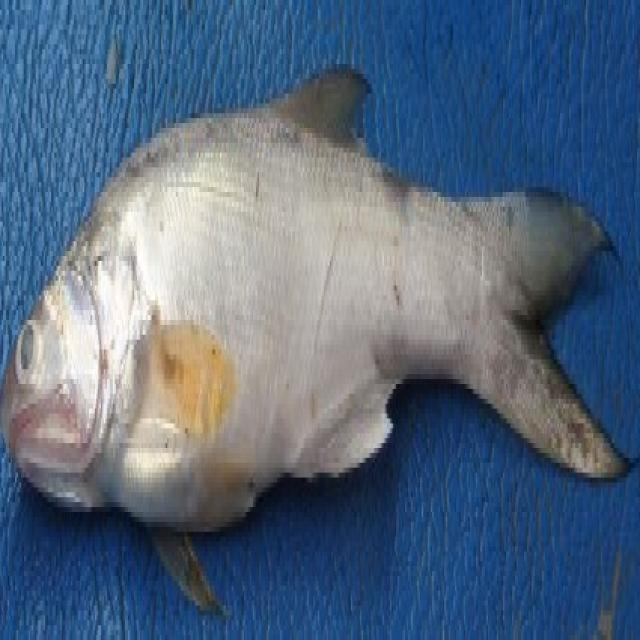Fourfinger-Threadfin: (1, 22, 640, 571)
